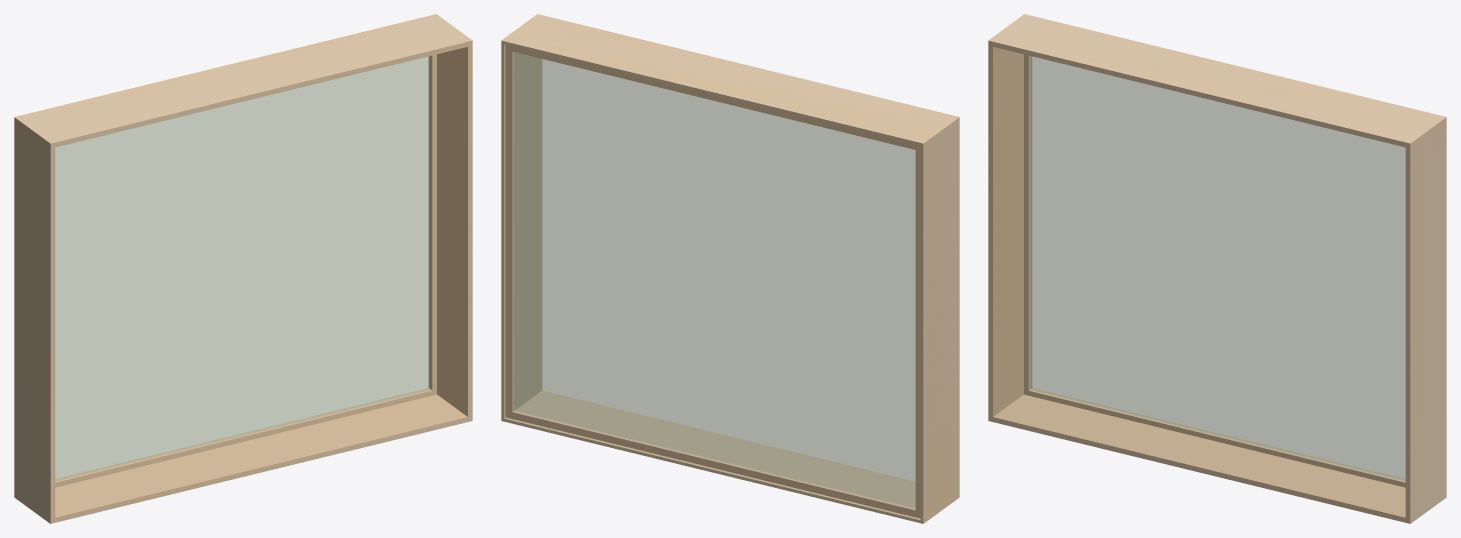
The model's file is window-2800mm-x-2410mm.glb.
The picture shows the model from 3 angles, left to right: view 1: azimuth 30°, elevation 25°; view 2: azimuth 150°, elevation 25°; view 3: azimuth 330°, elevation 25°; orthographic projection.
Visible parts, largest first — view 1: 1xS3BCk291UvhgP2dvNoJ3, 1hOSvn6df7F8_7GcBWlSXO; view 2: 1xS3BCk291UvhgP2dvNoJ3, 1hOSvn6df7F8_7GcBWlSXO; view 3: 1xS3BCk291UvhgP2dvNoJ3, 1hOSvn6df7F8_7GcBWlSXO.
Boxes of the visible parts, x1,y1,x2,y2 form: 1xS3BCk291UvhgP2dvNoJ3: (15,31,471,522); 1hOSvn6df7F8_7GcBWlSXO: (14,14,472,523); 1xS3BCk291UvhgP2dvNoJ3: (502,25,958,522); 1hOSvn6df7F8_7GcBWlSXO: (501,14,959,523); 1xS3BCk291UvhgP2dvNoJ3: (989,41,1409,520); 1hOSvn6df7F8_7GcBWlSXO: (988,14,1446,523).
Bounding box in the file's own units: 2.8 × 2.41 × 0.417.
